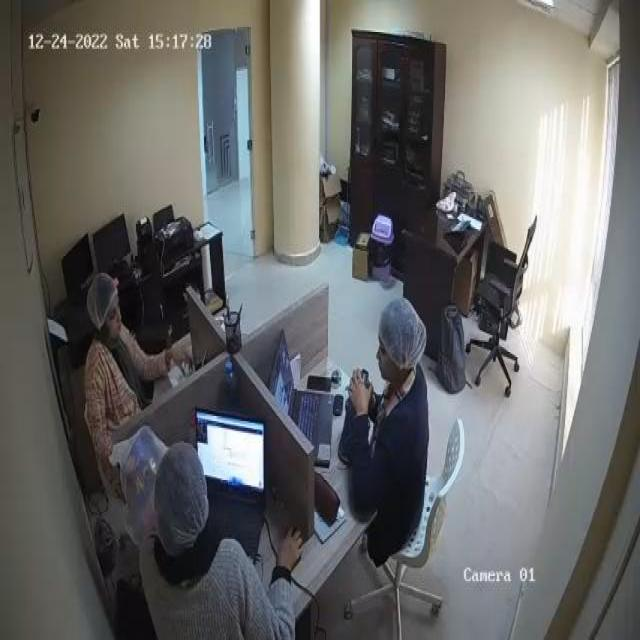hairnet: (151, 440, 209, 540), (380, 298, 426, 363), (89, 272, 121, 330)
